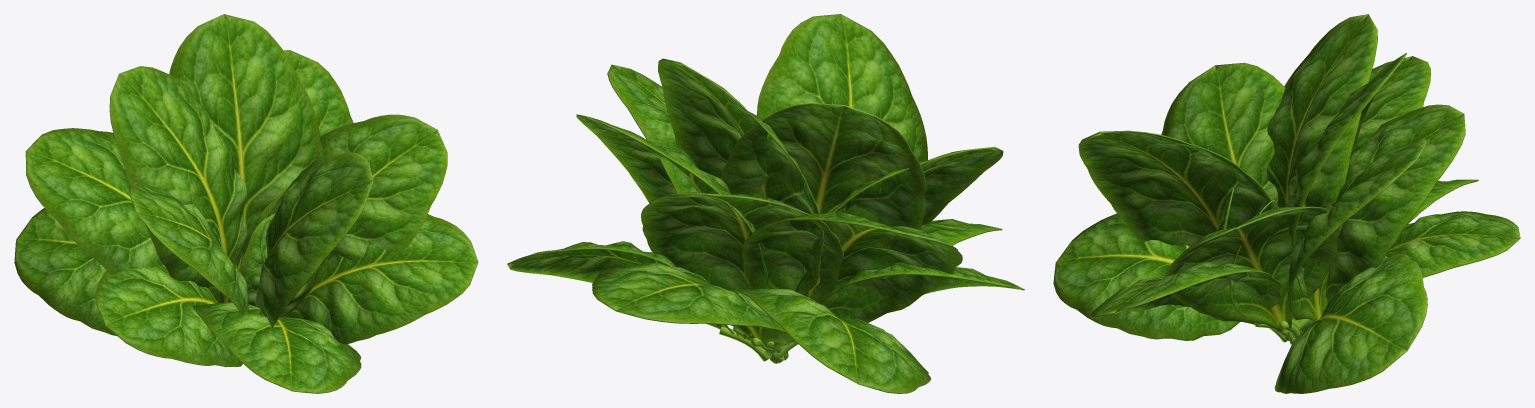
File: NP_Spinach_Ready.fbx
3 renders of one model, left to right at view 1: azimuth 30°, elevation 25°; view 2: azimuth 150°, elevation 25°; view 3: azimuth 270°, elevation 25°, orthographic. The views are drawn at different scales.
Parts seen in each view (by area): view 1: NP_Spinach_Ready; view 2: NP_Spinach_Ready; view 3: NP_Spinach_Ready.
Part boxes in pixels (bbox=[...]): NP_Spinach_Ready: bbox=[14, 14, 478, 393]; NP_Spinach_Ready: bbox=[507, 14, 1024, 393]; NP_Spinach_Ready: bbox=[1053, 14, 1520, 393].
Bounding box in the file's own units: 67.57 × 49.74 × 70.37.
